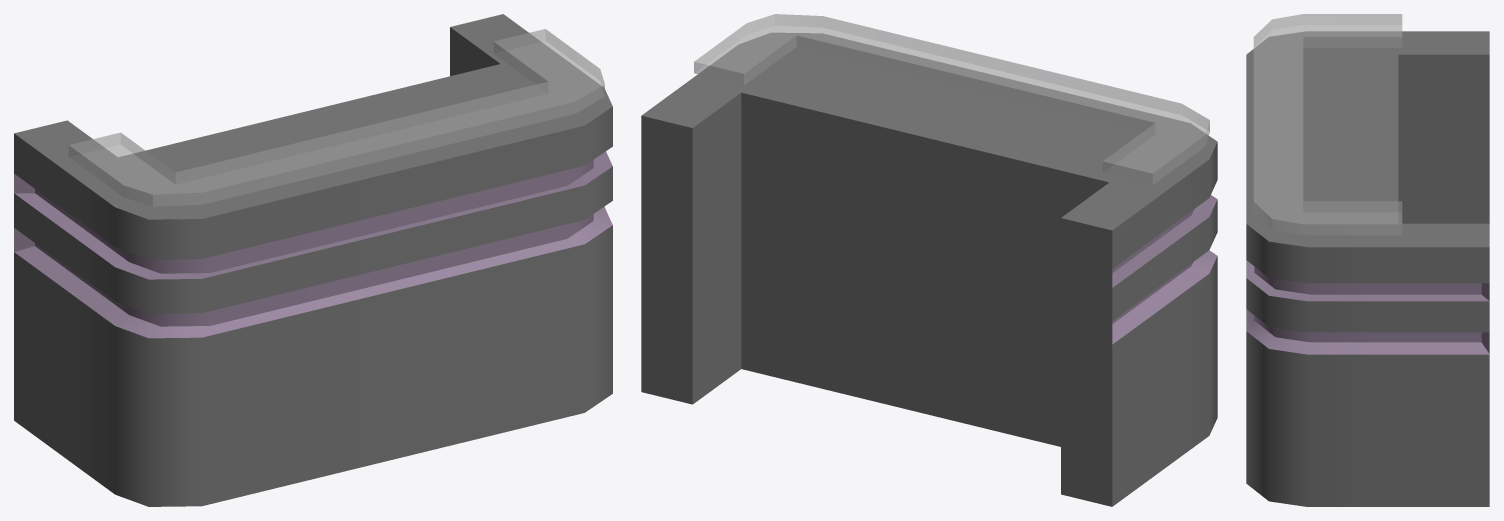
The model's file is Podium.fbx.
The picture shows the model from 3 angles, left to right: view 1: azimuth 30°, elevation 25°; view 2: azimuth 150°, elevation 25°; view 3: azimuth 270°, elevation 25°; orthographic projection. The views are drawn at different scales.
Parts seen in each view (by area): view 1: Podium; view 2: Podium; view 3: Podium.
Part boxes in pixels (x1,y1,x2,y2): Podium: (14, 14, 612, 506); Podium: (641, 14, 1217, 506); Podium: (1246, 14, 1489, 506).
Bounding box in the file's own units: 6.9 × 4.17 × 3.29.
